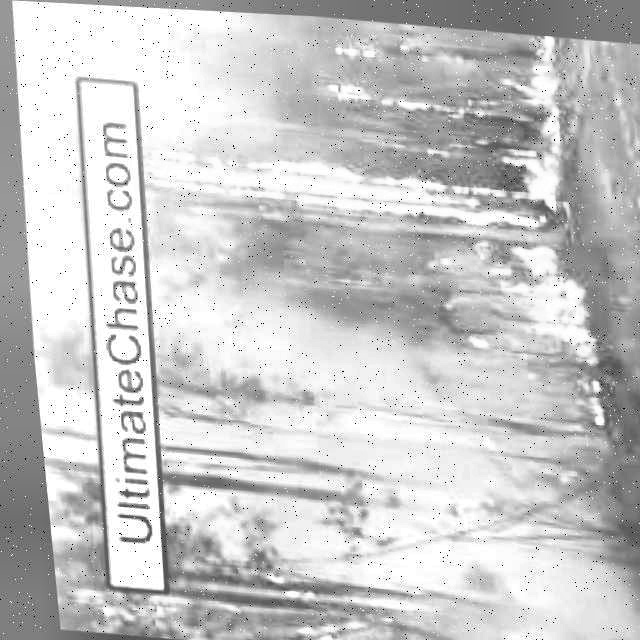Fire: (134, 138, 527, 221), (490, 240, 591, 379), (525, 28, 570, 201), (69, 579, 191, 638), (258, 582, 371, 640), (316, 75, 471, 108)
